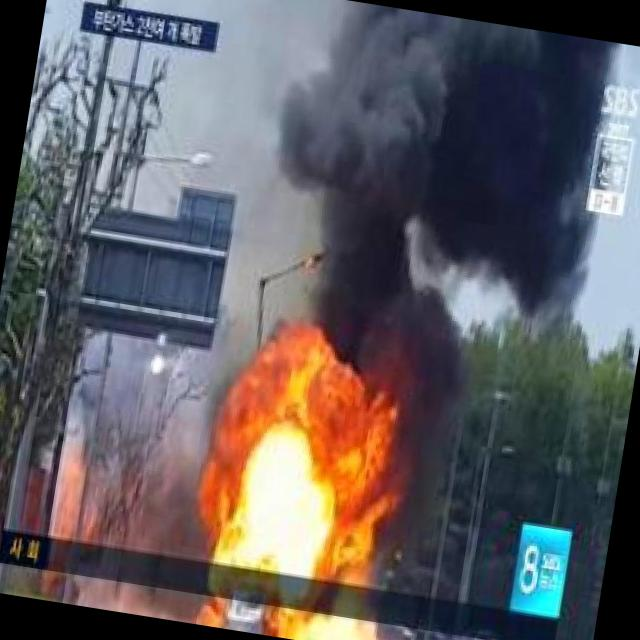Fire: (192, 361, 415, 640)
Smoke: (253, 0, 611, 354)
